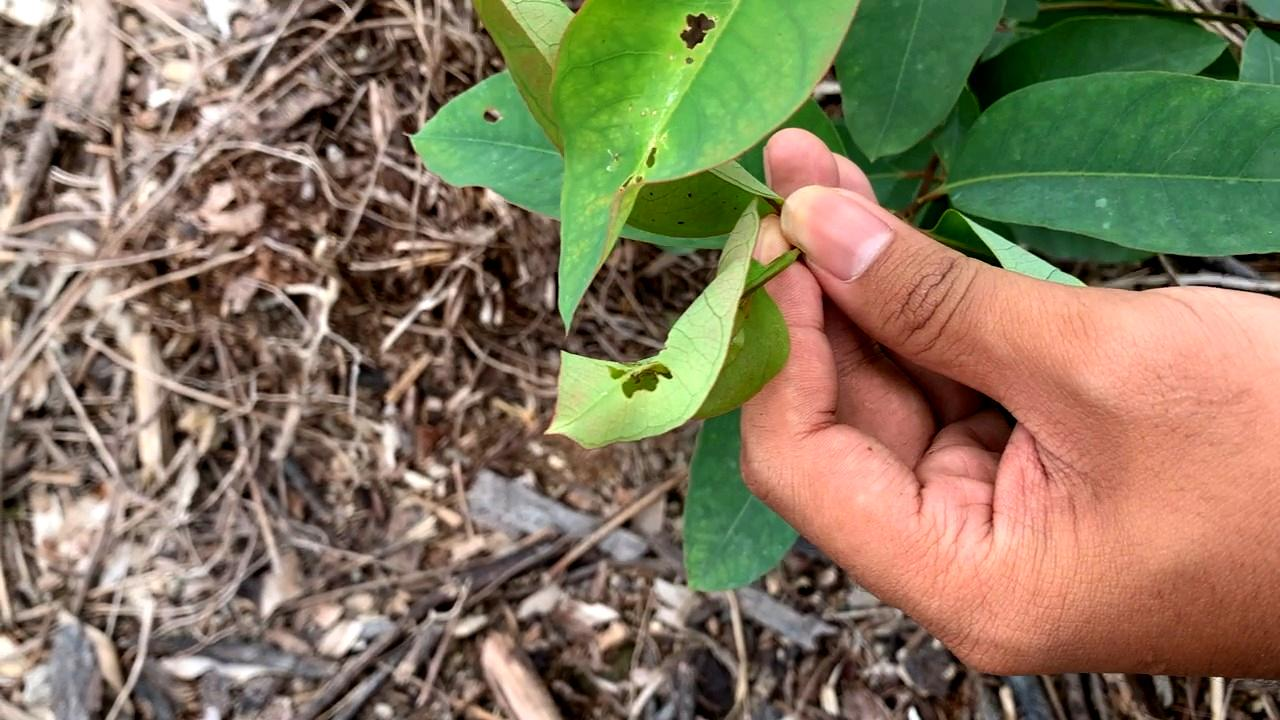Leaf Roller - Leaf: (540, 205, 796, 479)
